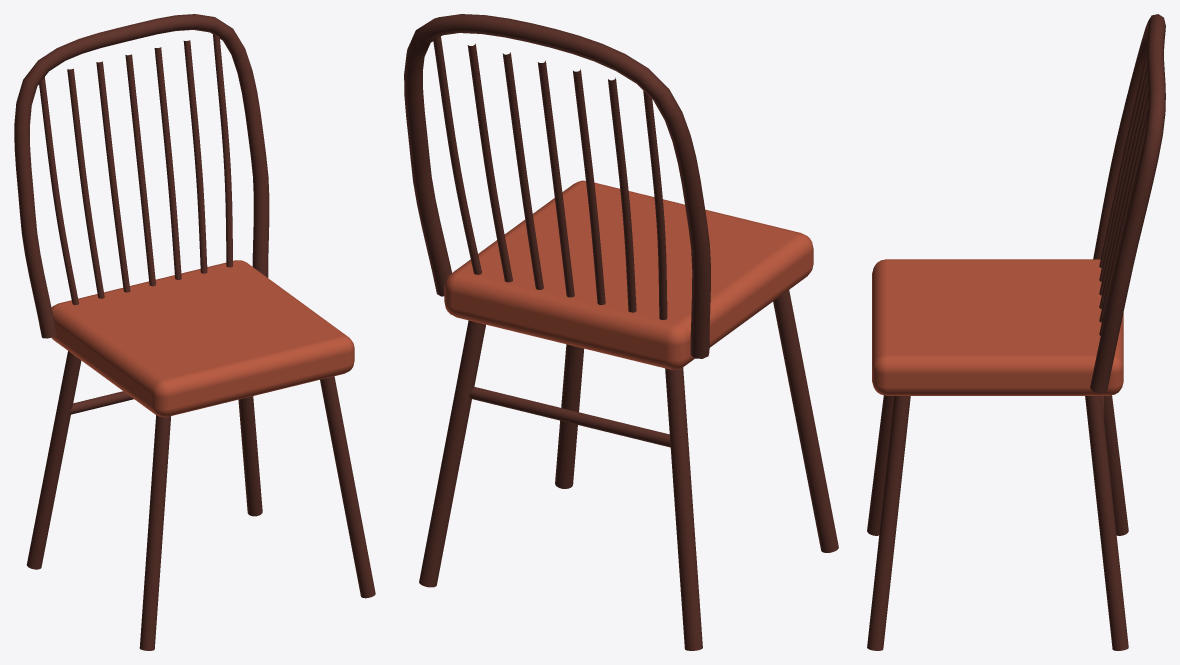
File: wire-chair.glb
3 renders of one model, left to right at view 1: azimuth 30°, elevation 25°; view 2: azimuth 150°, elevation 25°; view 3: azimuth 270°, elevation 25°, orthographic. The views are drawn at different scales.
Visible parts, largest first — view 1: surface-#5A2E25,0,0.7, surface-#B5543A,0,0.7; view 2: surface-#5A2E25,0,0.7, surface-#B5543A,0,0.7; view 3: surface-#B5543A,0,0.7, surface-#5A2E25,0,0.7.
Part boxes in pixels (x1,y1,x2,y2): surface-#5A2E25,0,0.7: (14, 14, 375, 650); surface-#B5543A,0,0.7: (51, 260, 354, 417); surface-#5A2E25,0,0.7: (404, 14, 838, 650); surface-#B5543A,0,0.7: (444, 180, 813, 369); surface-#B5543A,0,0.7: (872, 259, 1123, 395); surface-#5A2E25,0,0.7: (867, 14, 1165, 650).
Size of the model in its own units: 0.4882 by 0.956 by 0.4749.
